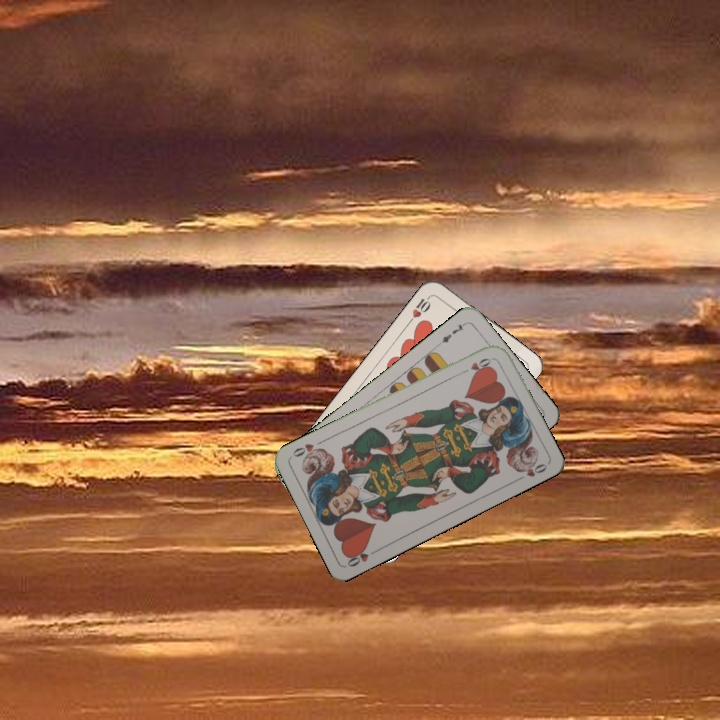E7: (434, 318, 469, 348)
H10: (404, 291, 434, 326)
HO: (343, 544, 381, 569), (457, 354, 495, 376)
